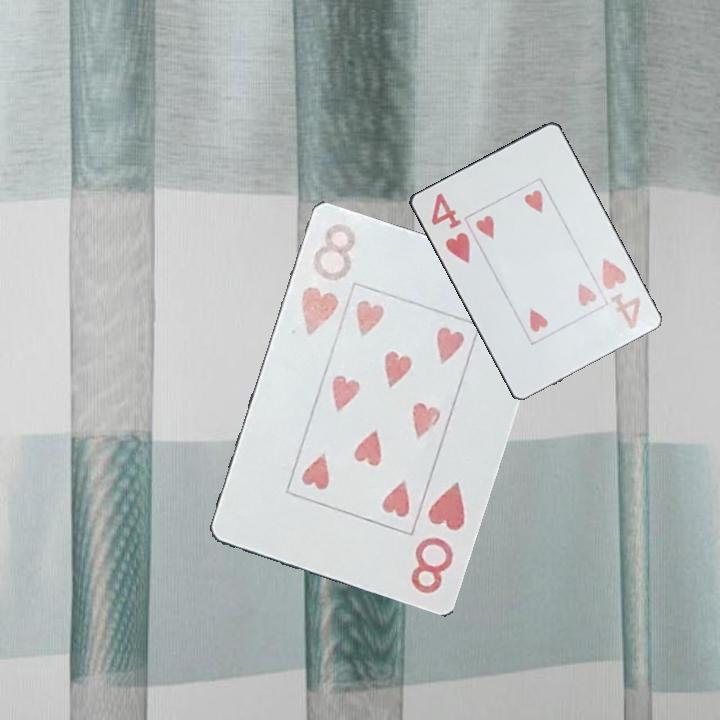4h: (426, 189, 473, 267), (597, 254, 643, 332)
8h: (407, 478, 469, 598), (297, 220, 359, 339)
